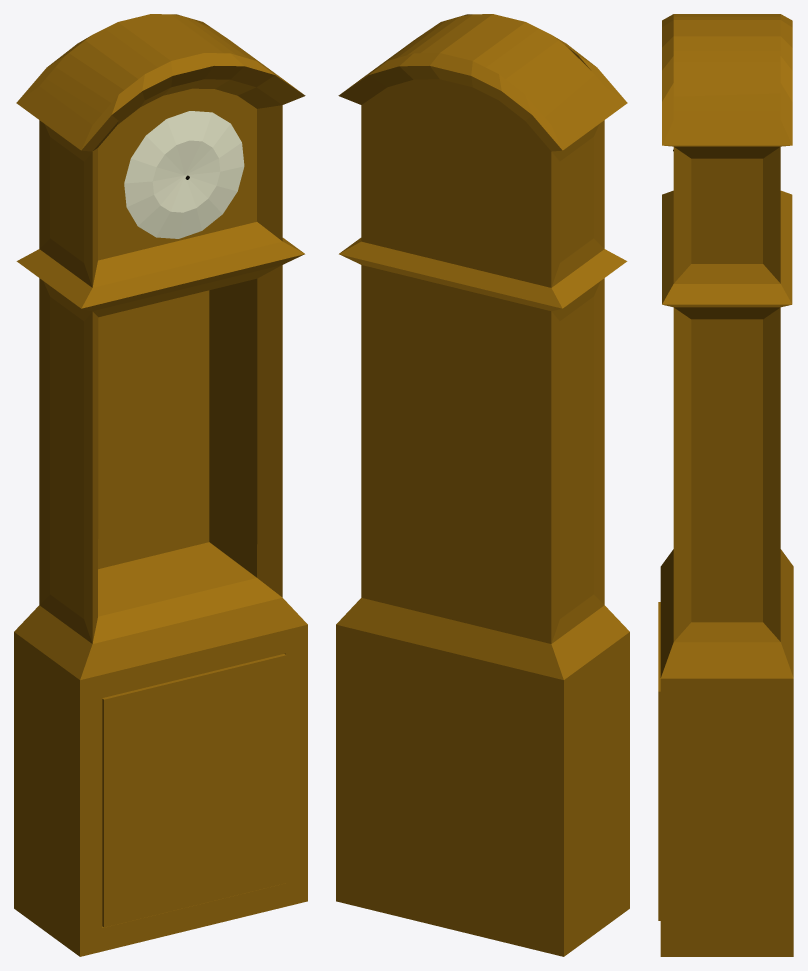
File: mueble.obj
The picture shows the model from 3 angles, left to right: view 1: azimuth 30°, elevation 25°; view 2: azimuth 150°, elevation 25°; view 3: azimuth 270°, elevation 25°; orthographic projection.
Parts seen in each view (by area): view 1: clock:clockbody_clocktexture, clock:door_clocktexture, clock:face_clocktexture; view 2: clock:clockbody_clocktexture; view 3: clock:clockbody_clocktexture, clock:door_clocktexture.
Part boxes in pixels (<box>): clock:clockbody_clocktexture: <box>14,14,307,956</box>; clock:door_clocktexture: <box>102,654,286,927</box>; clock:face_clocktexture: <box>124,111,244,238</box>; clock:clockbody_clocktexture: <box>336,14,629,956</box>; clock:clockbody_clocktexture: <box>660,14,793,956</box>; clock:door_clocktexture: <box>658,602,660,920</box>.
Size of the model in its own units: 2.17 by 7.91 by 1.11.
Materials: 3 (3 with a texture image).
